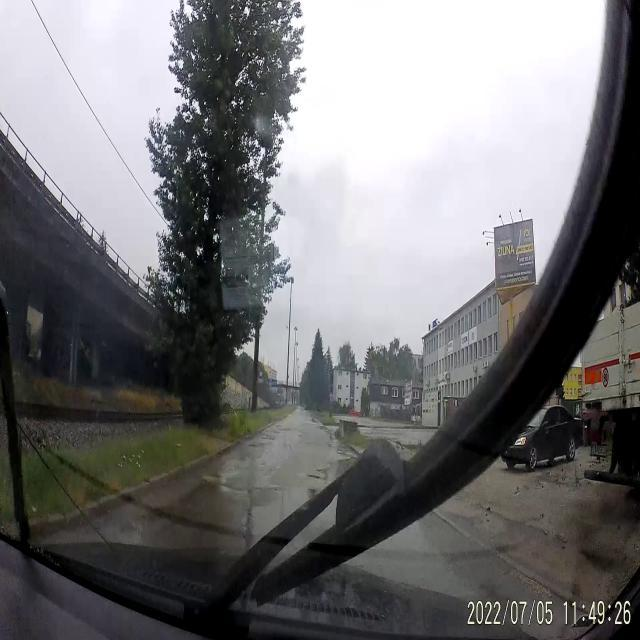Pothole: (508, 556, 554, 600), (306, 463, 332, 483), (202, 470, 222, 484), (261, 433, 278, 442), (278, 423, 292, 432), (247, 442, 259, 449)
